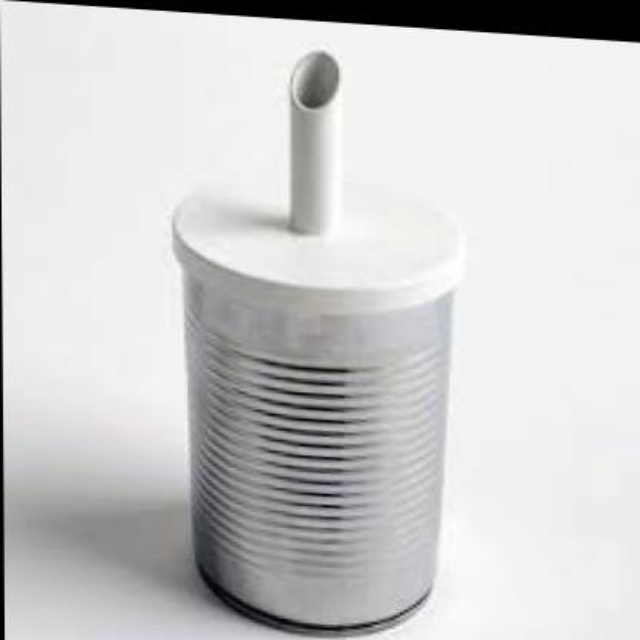trash: (172, 51, 463, 631)
